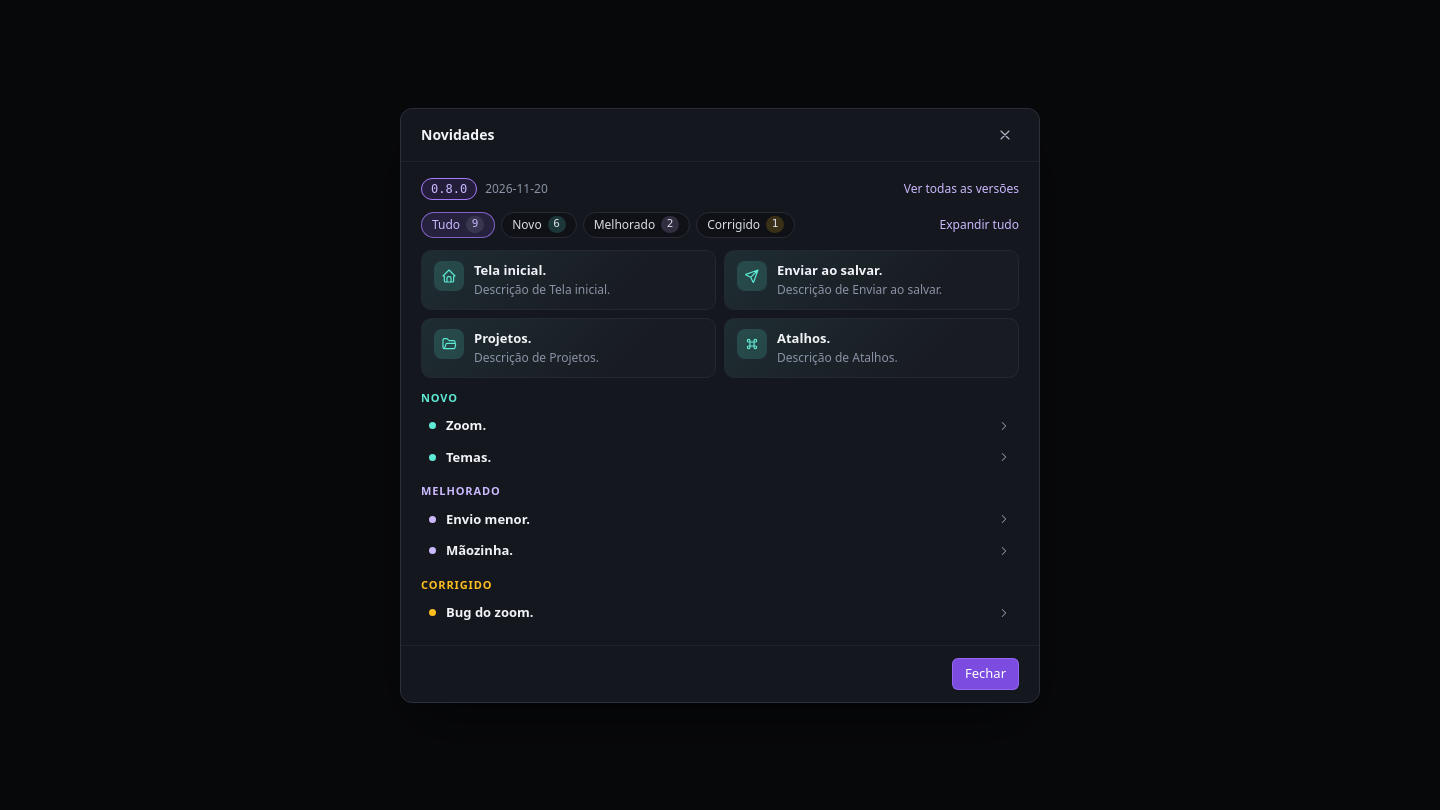
notas de versão › Novidades: "Ver todas as versões" traz o histórico
Click the button with test id "whats-new-all".
click(961, 188)  # box [904,180,1019,198]
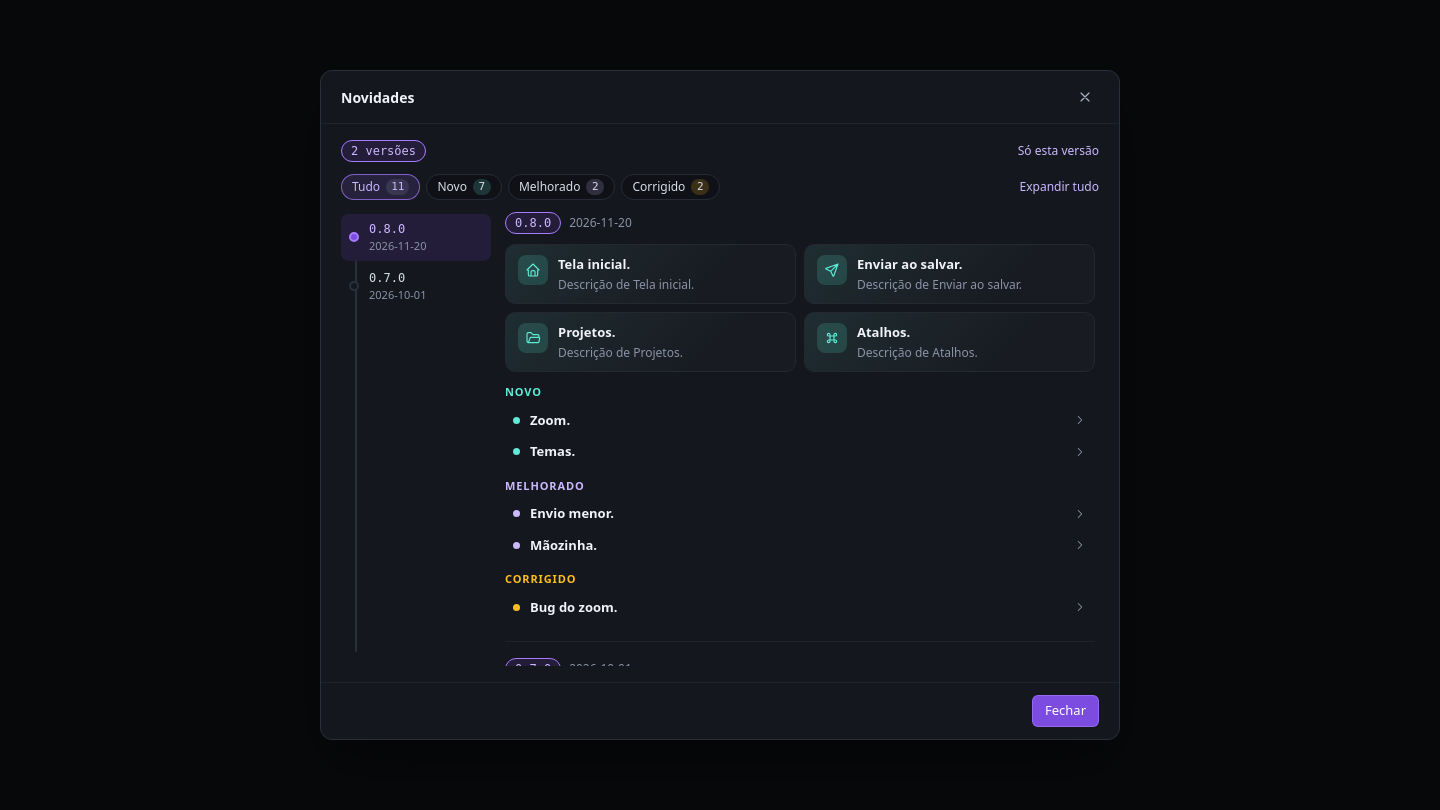
Check: the navigation bar with test id "notes-timeline" is shown, box [341,214,491,309]
Check: the button "Só esta versão" is shown, box [1018,142,1099,160]
